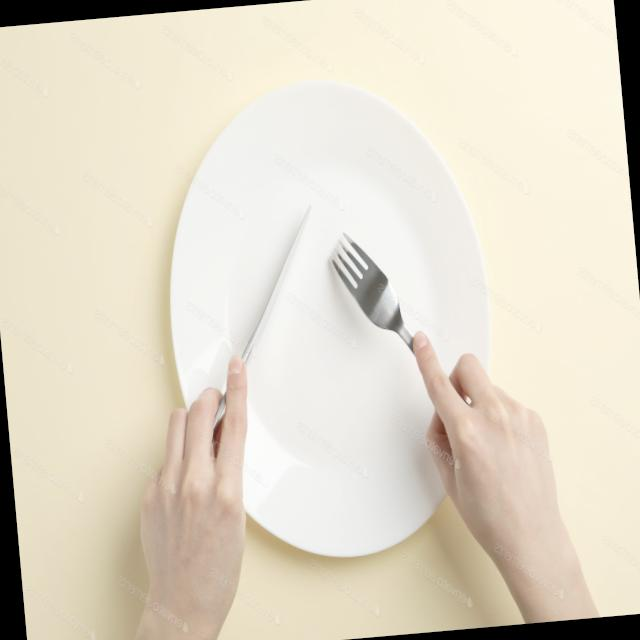fork: (326, 219, 474, 509)
